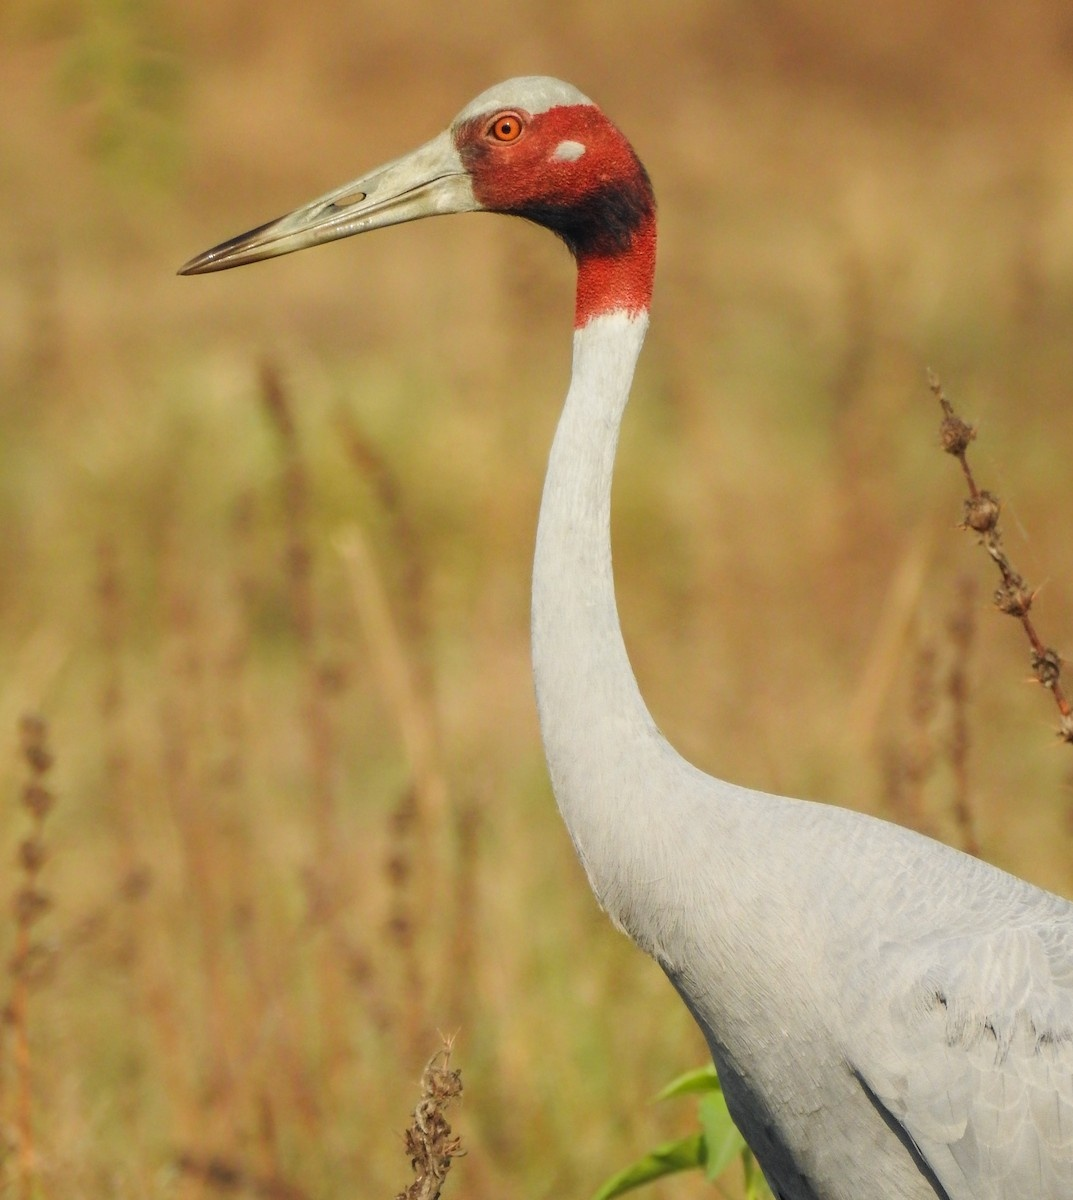crane: (180, 54, 1073, 1193)
